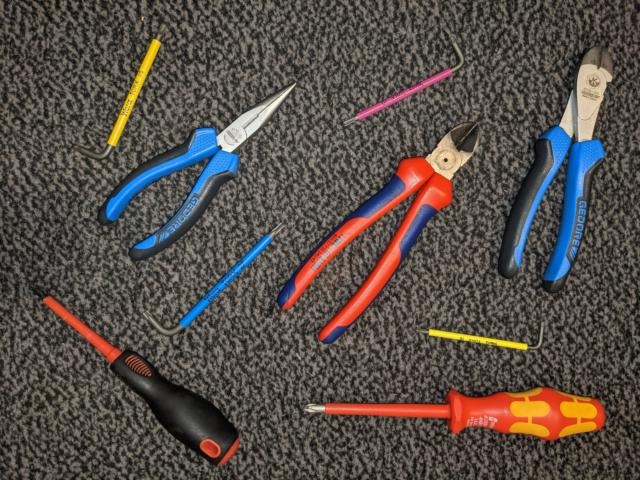Inbusschlüssel: (138, 220, 291, 339), (67, 27, 167, 164), (336, 31, 469, 130), (413, 316, 549, 356)
Schraubendreher: (24, 279, 248, 474), (297, 381, 612, 450)
Seitenschneider: (271, 118, 485, 350), (494, 40, 620, 298)
Zange: (93, 77, 302, 266)
